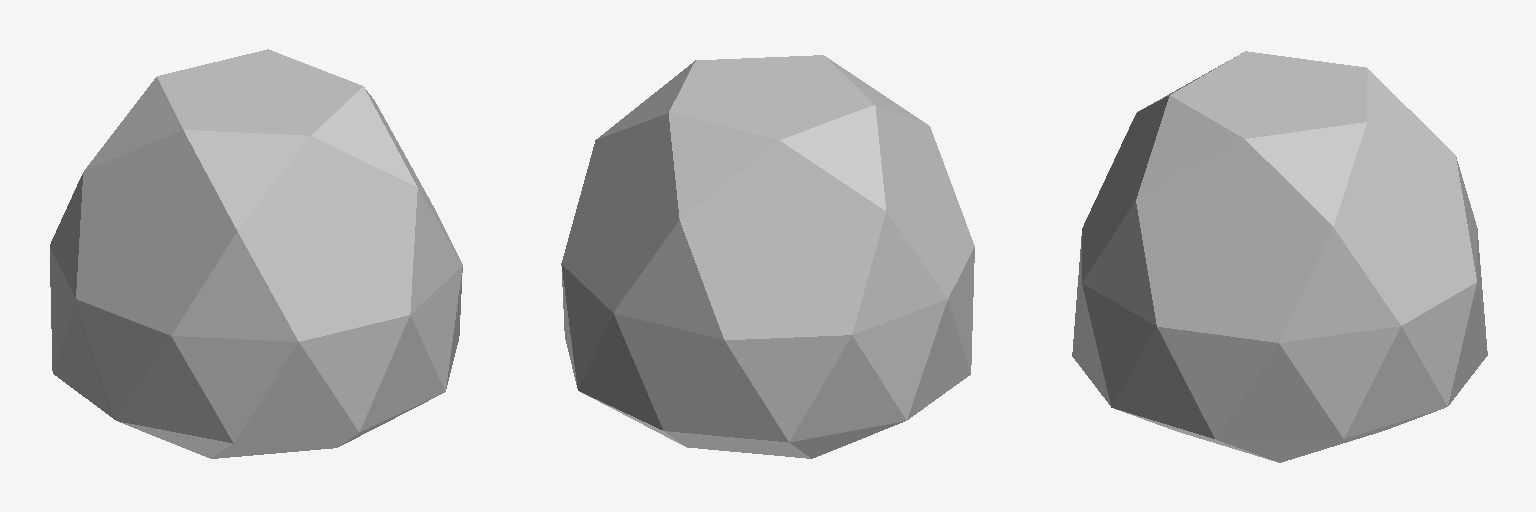
Rendered from GyroElongatedPentagonalCupolaRotunda.obj.
The picture shows the model from 3 angles: view 1: azimuth 30°, elevation 25°; view 2: azimuth 150°, elevation 25°; view 3: azimuth 270°, elevation 25°; orthographic projection.
Visible parts, largest first — view 1: GyroElongatedPentagonalCupolaRotunda; view 2: GyroElongatedPentagonalCupolaRotunda; view 3: GyroElongatedPentagonalCupolaRotunda.
Boxes of the visible parts, x1,y1,x2,y2 form: GyroElongatedPentagonalCupolaRotunda: [50, 49, 462, 458]; GyroElongatedPentagonalCupolaRotunda: [561, 55, 974, 458]; GyroElongatedPentagonalCupolaRotunda: [1072, 51, 1487, 462].
Bounding box in the file's own units: 2.43 × 2.08 × 2.43.